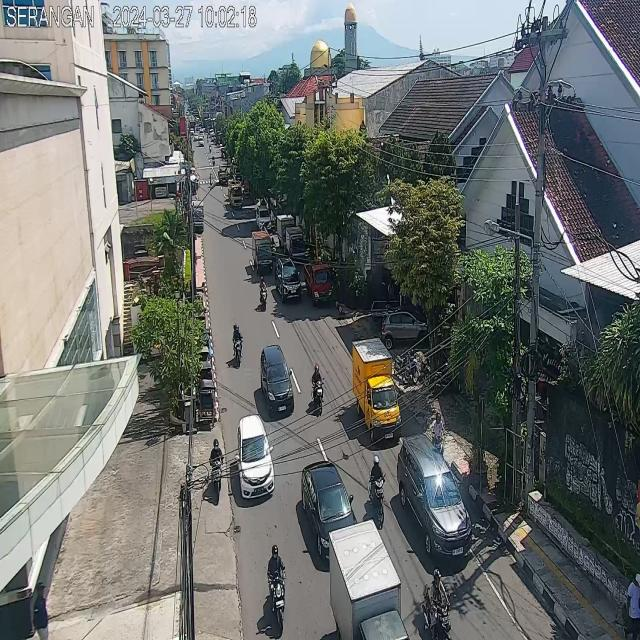car: (399, 432, 472, 559), (300, 459, 360, 560), (236, 414, 275, 499), (261, 346, 295, 417), (275, 258, 302, 304), (256, 206, 271, 230), (199, 137, 204, 147)
motorcycle: (420, 565, 453, 640), (265, 542, 291, 636), (365, 455, 387, 529), (208, 439, 223, 505), (310, 364, 325, 419), (430, 412, 446, 458), (232, 320, 244, 370), (258, 276, 268, 312), (270, 235, 277, 261), (211, 154, 216, 167), (209, 171, 213, 187), (206, 135, 210, 143), (209, 144, 212, 153)
truck: (330, 524, 409, 640), (351, 338, 401, 447), (305, 260, 333, 305), (252, 231, 273, 274), (286, 228, 306, 262), (277, 214, 296, 248), (228, 182, 243, 210), (218, 164, 228, 184)
